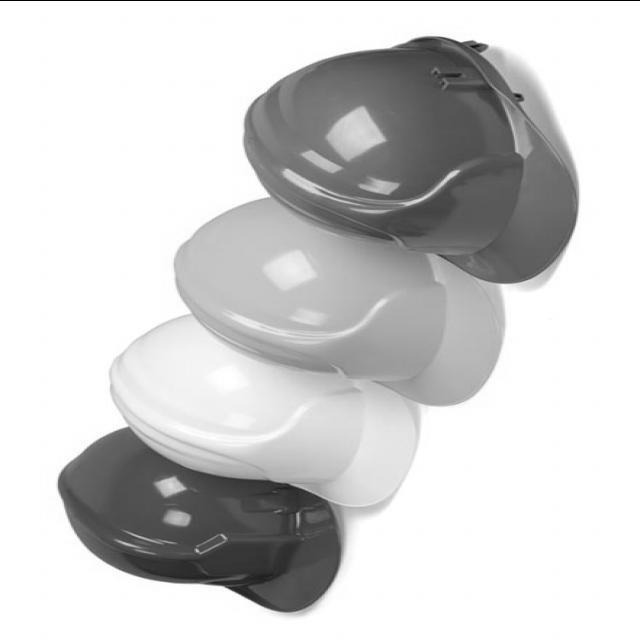safety_helmet: (244, 34, 579, 287)
